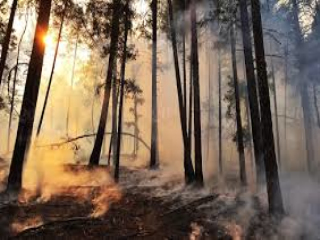smoke: (27, 119, 121, 211), (209, 165, 320, 232), (130, 159, 206, 212)
